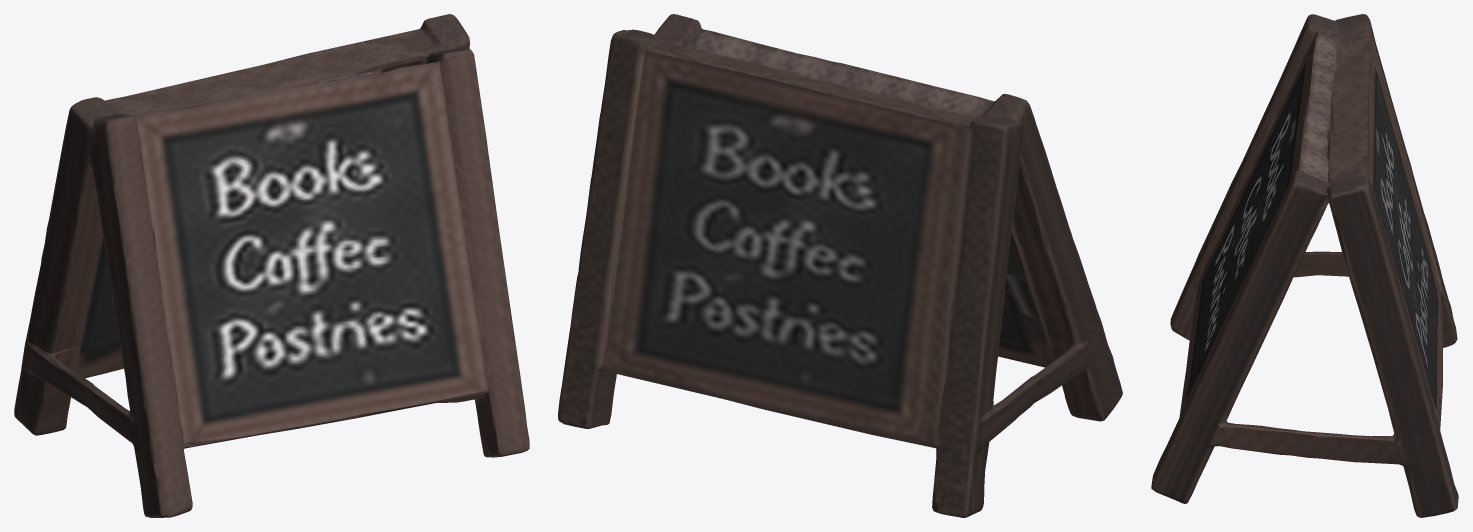
File: pavement-menu.glb
3 views of the same model, side by side, from view 1: azimuth 30°, elevation 25°; view 2: azimuth 150°, elevation 25°; view 3: azimuth 270°, elevation 25° (orthographic). The views are drawn at different scales.
Parts seen in each view (by area): view 1: Mesh_0; view 2: Mesh_0; view 3: Mesh_0.
Part boxes in pixels (bbox=[...]): Mesh_0: bbox=[14, 14, 529, 517]; Mesh_0: bbox=[558, 14, 1122, 517]; Mesh_0: bbox=[1151, 14, 1458, 517].
Size of the model in its own units: 0.186 by 0.1609 by 0.1323.
Materials: 1 (1 with a texture image).
